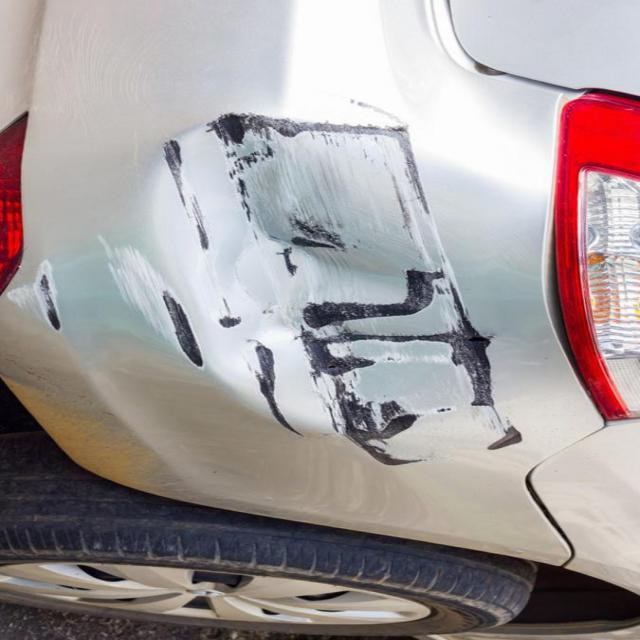dent: (114, 85, 602, 502)
